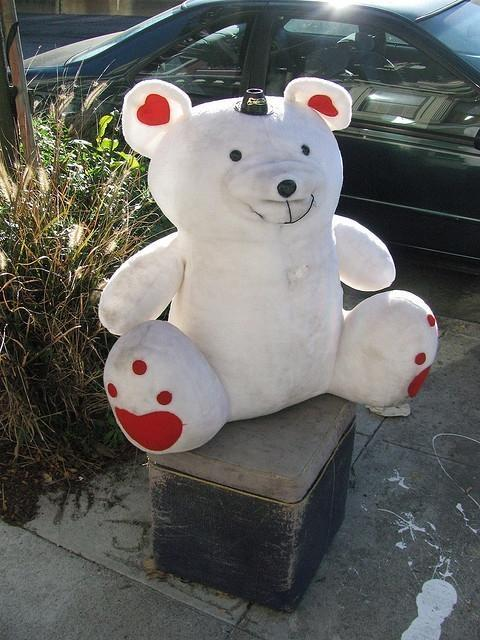car: (25, 0, 480, 279)
